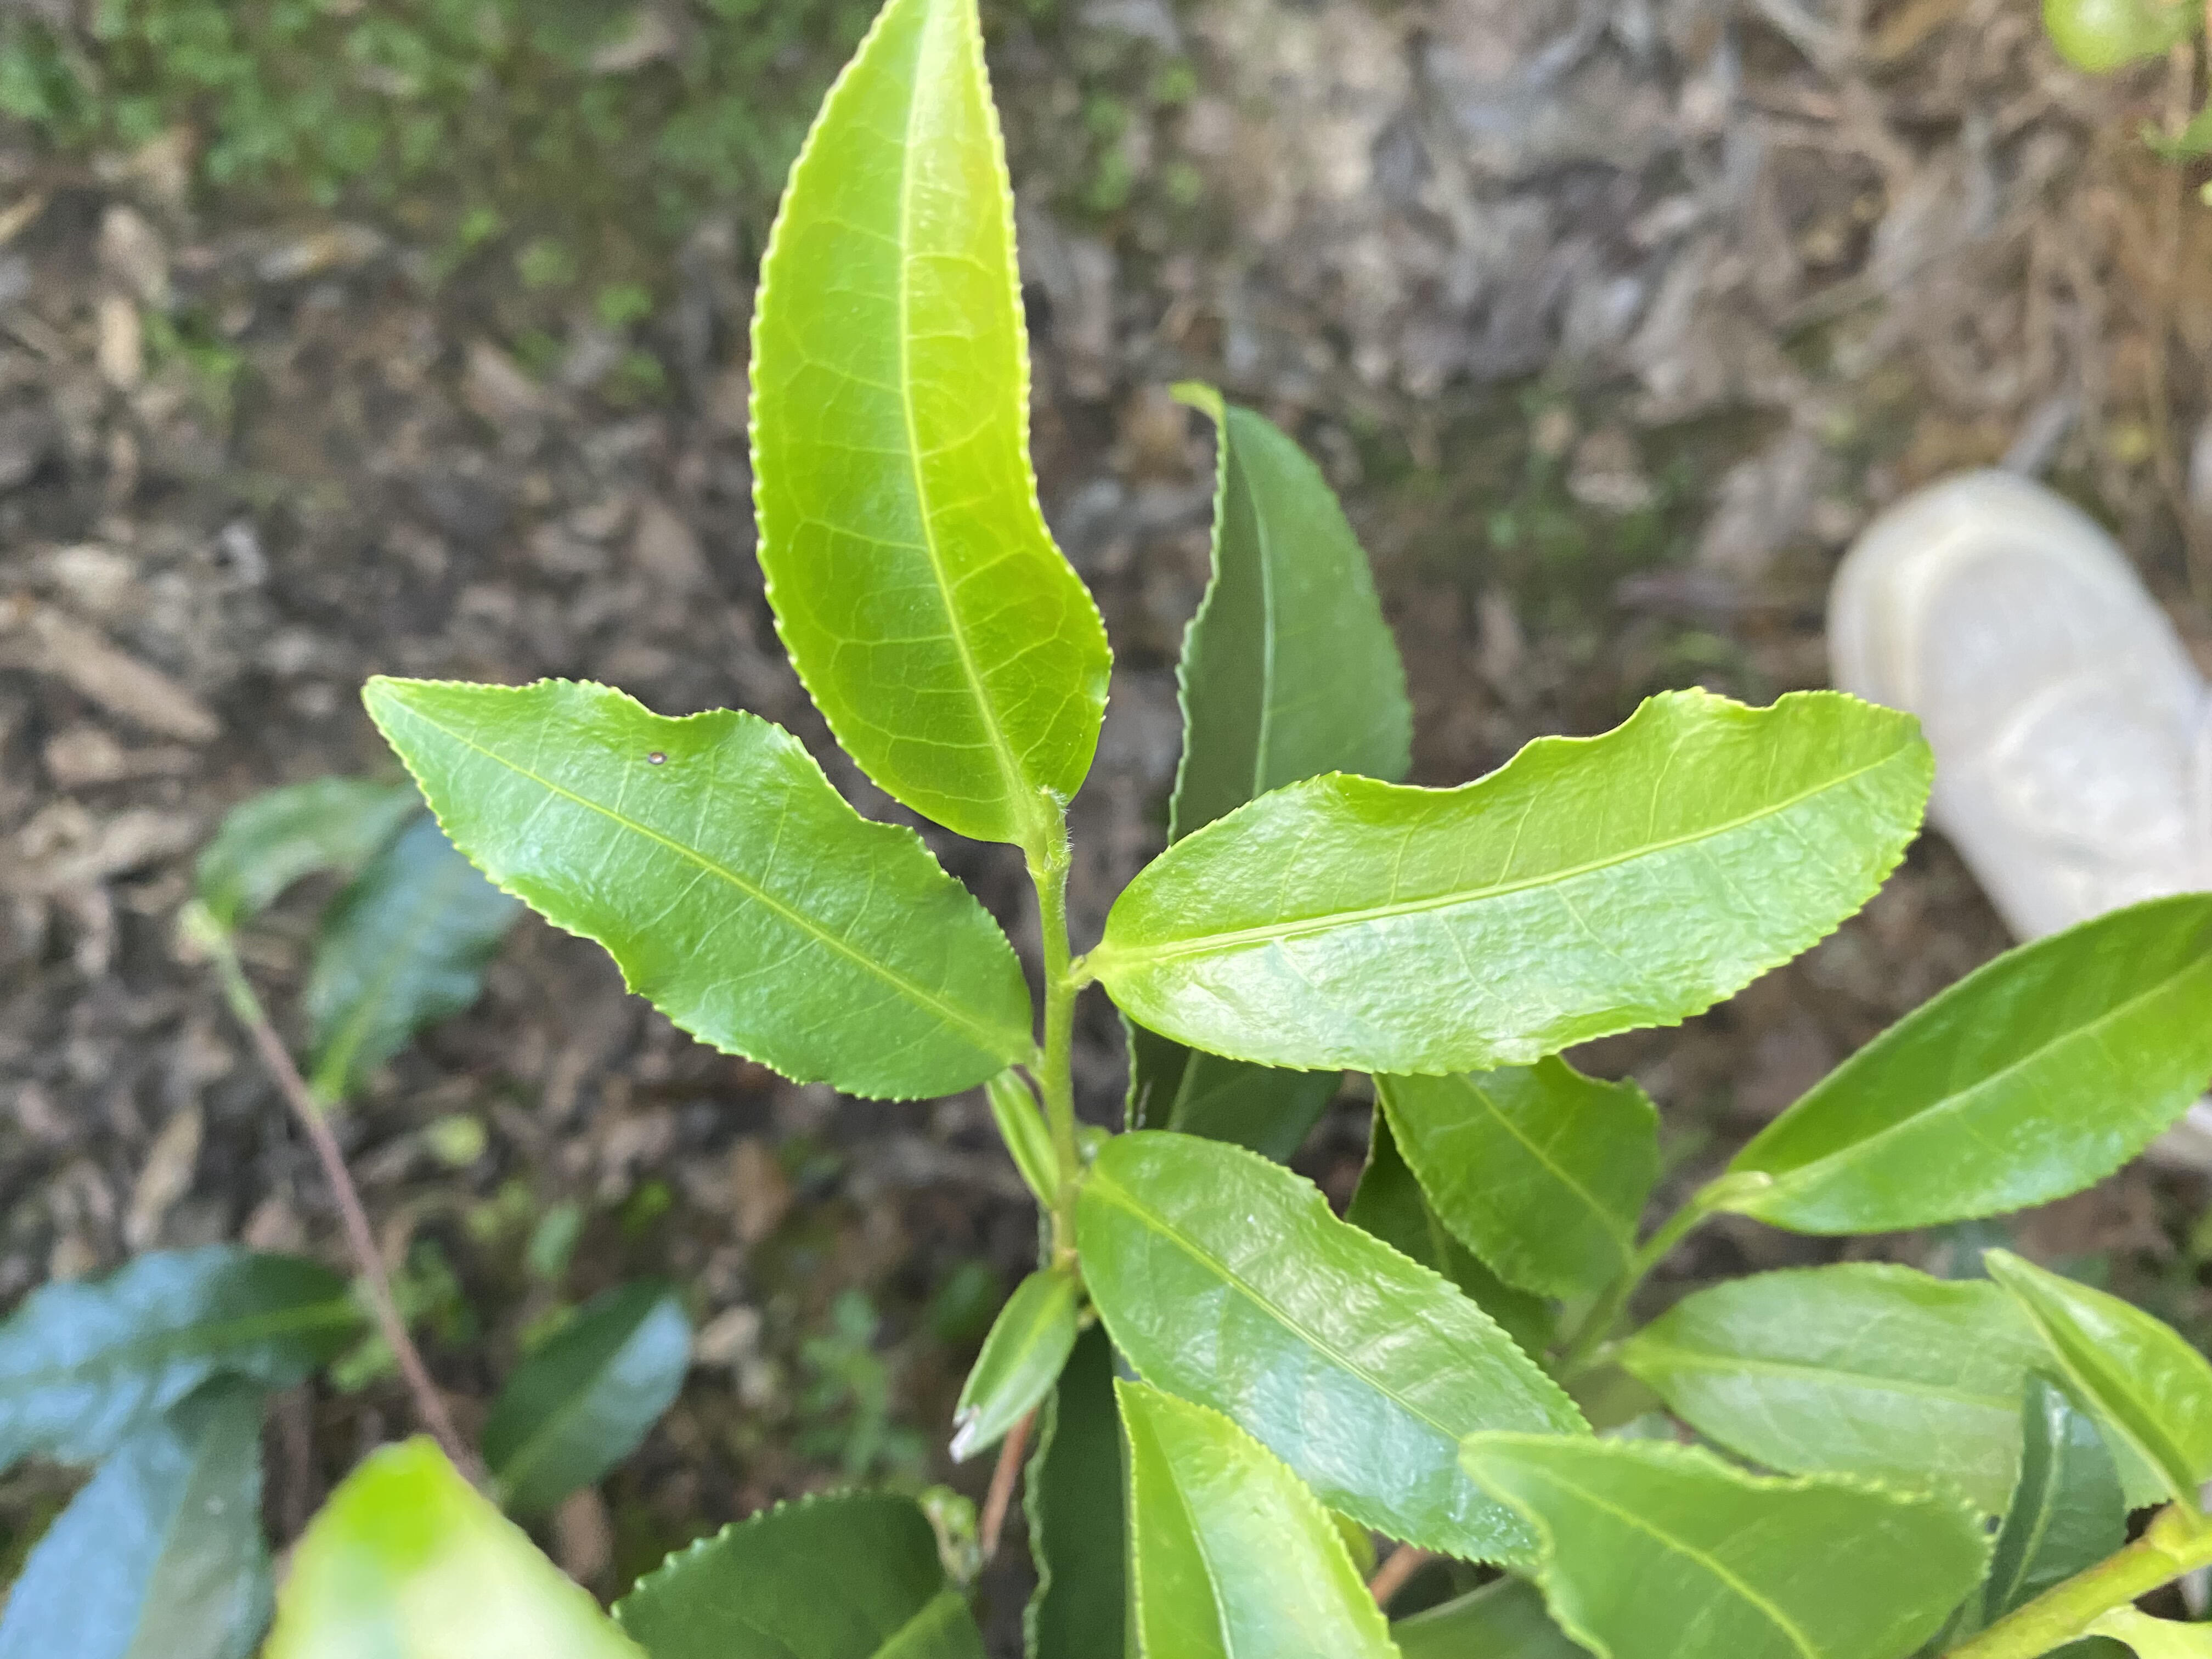healthy: (1097, 681, 1939, 1080), (745, 2, 1118, 849), (1071, 1127, 1592, 1572), (1726, 887, 2212, 1239), (1453, 1427, 2001, 1656), (1108, 1373, 1407, 1659)
tanju_low: (355, 671, 1035, 1107)
